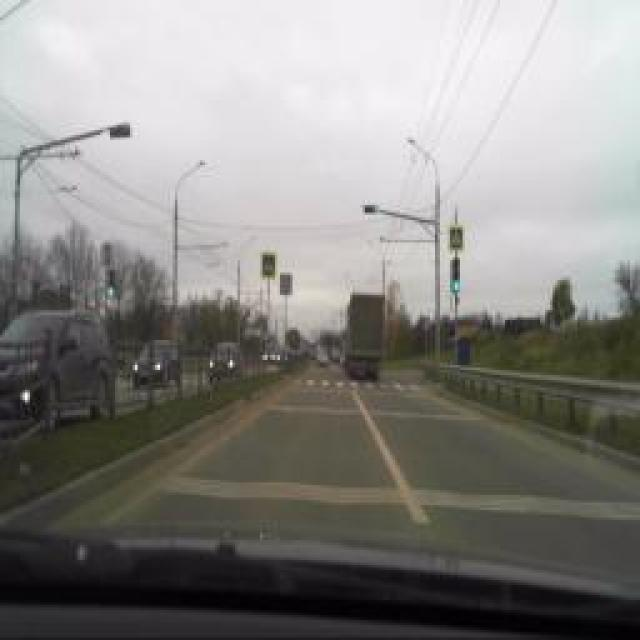sign: (260, 251, 278, 279), (448, 225, 464, 253)
